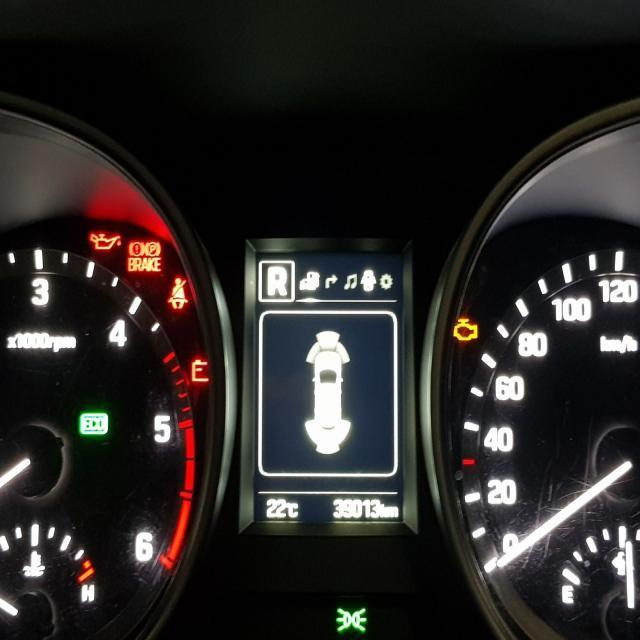SideLamp: (335, 605, 367, 634)
